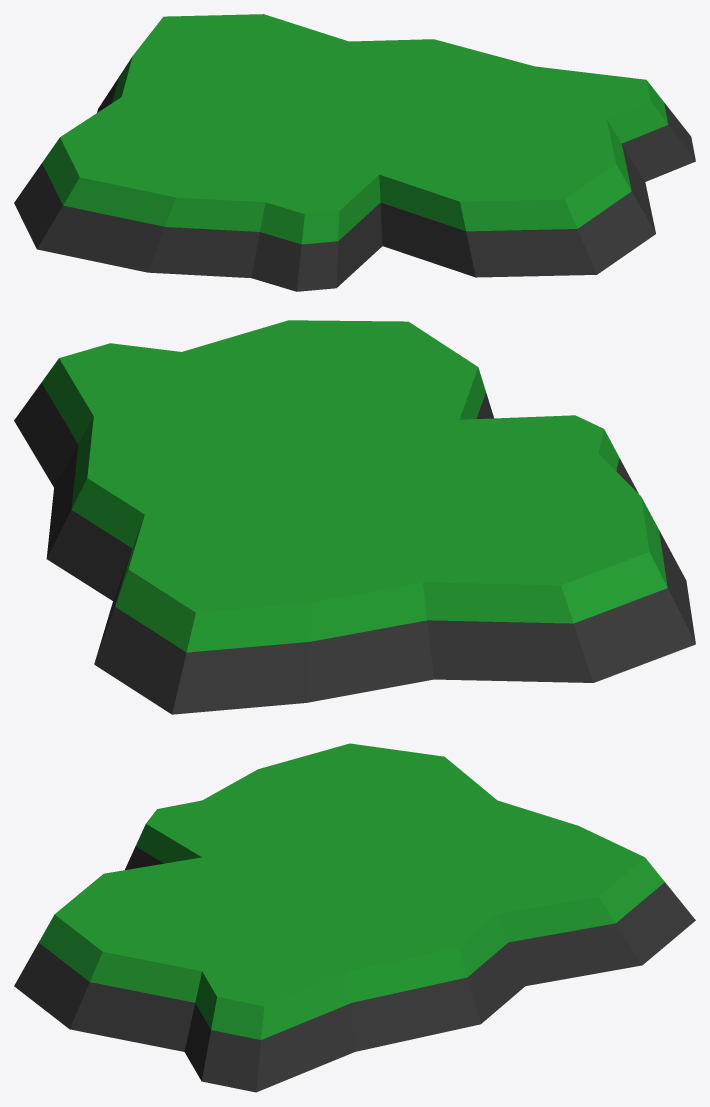
Rendered from Island2.FBX.
3 renders of one model, top to bottom at view 1: azimuth 30°, elevation 25°; view 2: azimuth 150°, elevation 25°; view 3: azimuth 270°, elevation 25°, orthographic. The views are drawn at different scales.
Parts seen in each view (by area): view 1: Island 4; view 2: Island 4; view 3: Island 4.
Part boxes in pixels (x1,y1,x2,y2): Island 4: (14,14,695,291); Island 4: (14,320,695,714); Island 4: (14,743,695,1092).
Size of the model in its own units: 122 by 12.28 by 116.
